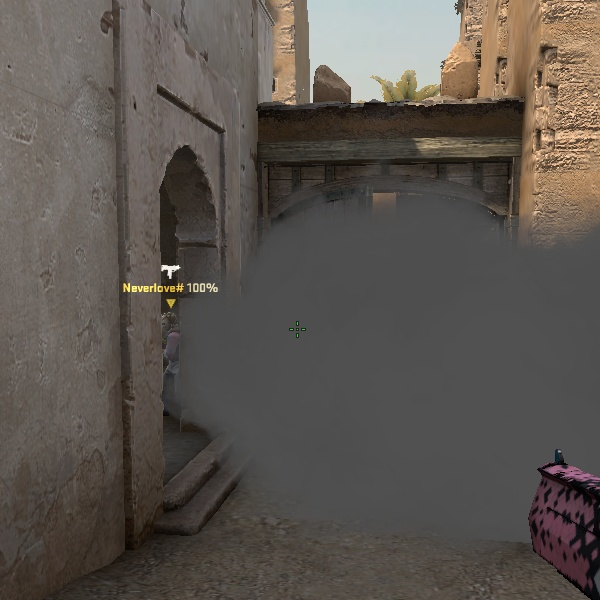t_body: (161, 313, 182, 432)
t_head: (161, 313, 179, 335)
